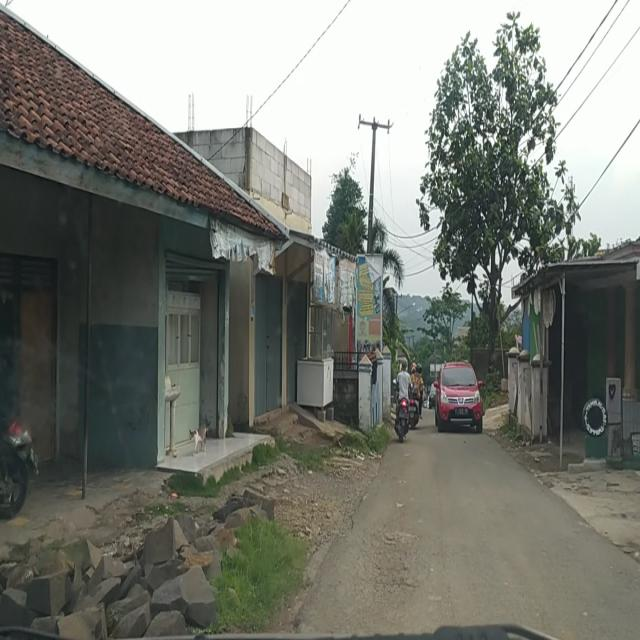Drain Hole: (350, 518, 430, 606)
